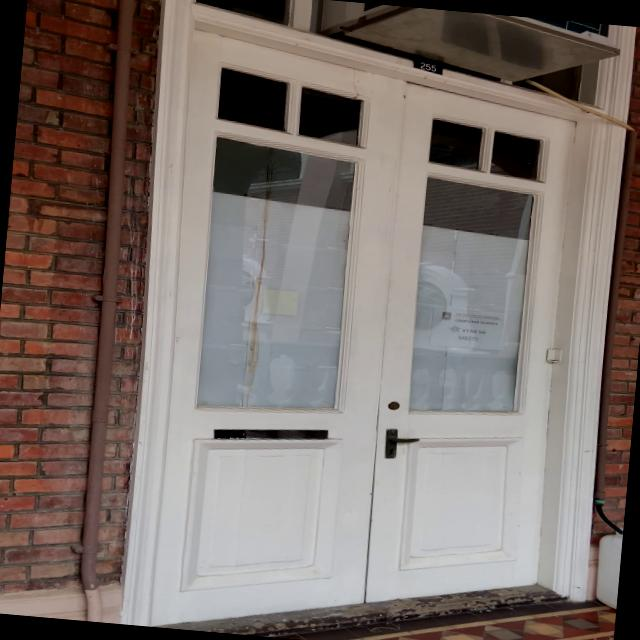room255: (410, 57, 444, 76)
